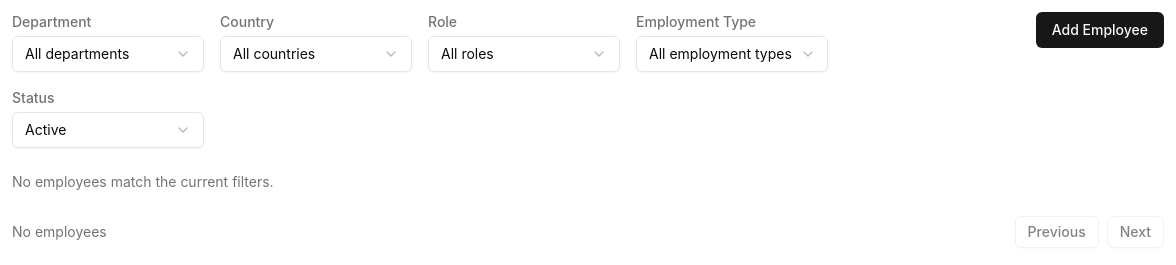
EmployeeListPage › lists the department options as humanized labels from the filter-options response
Step 1. Click the dropdown labelled "department" → (108, 54), box [12, 36, 204, 72]
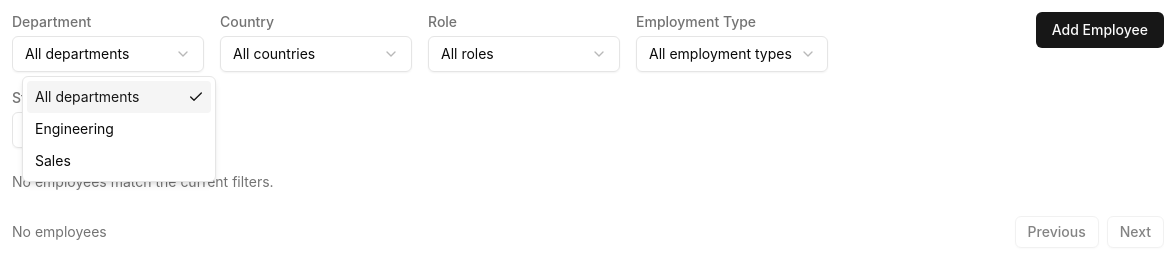
expect the options read "All departments", "Engineering", "Sales", in this order: met, box [27, 81, 211, 113]; [35, 120, 114, 137]; [35, 152, 71, 169]
